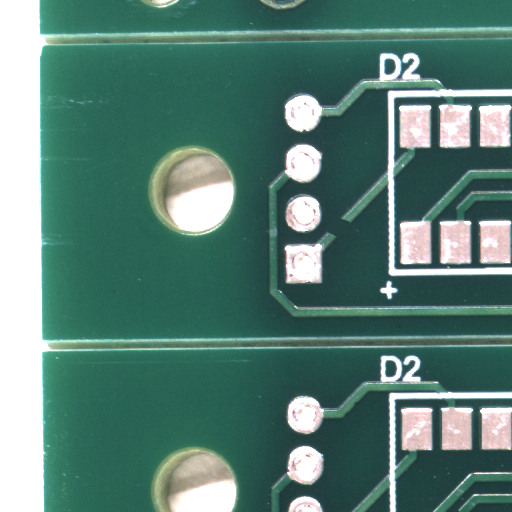Open_circuit: (339, 228, 364, 250)
